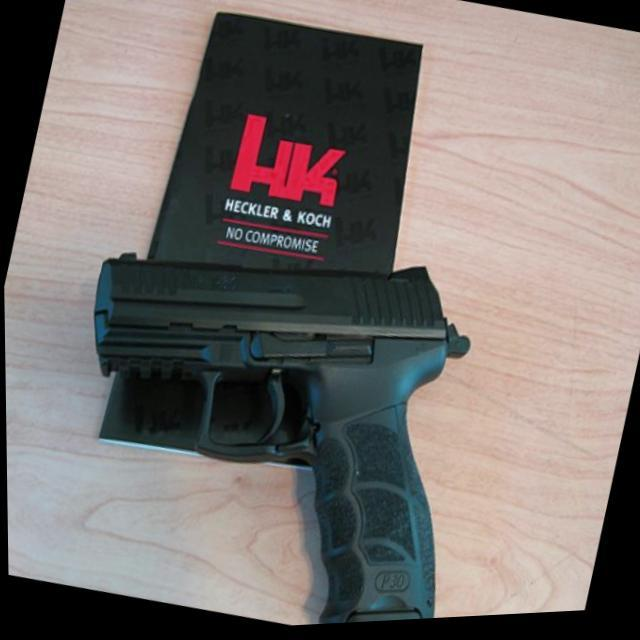weapon: (24, 214, 518, 639)
